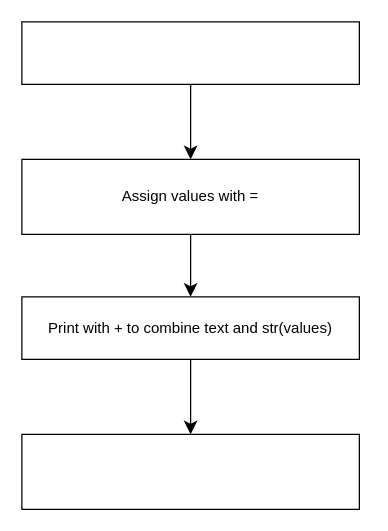
Image size: 388x531. Some labels were removed from this diagram. Each missing label, with the box of its shape:
End: See output in terminal: (21, 433, 359, 509)
Start: Declare patient_age, heart_rate, patient_name, has_fever: (21, 21, 359, 84)
